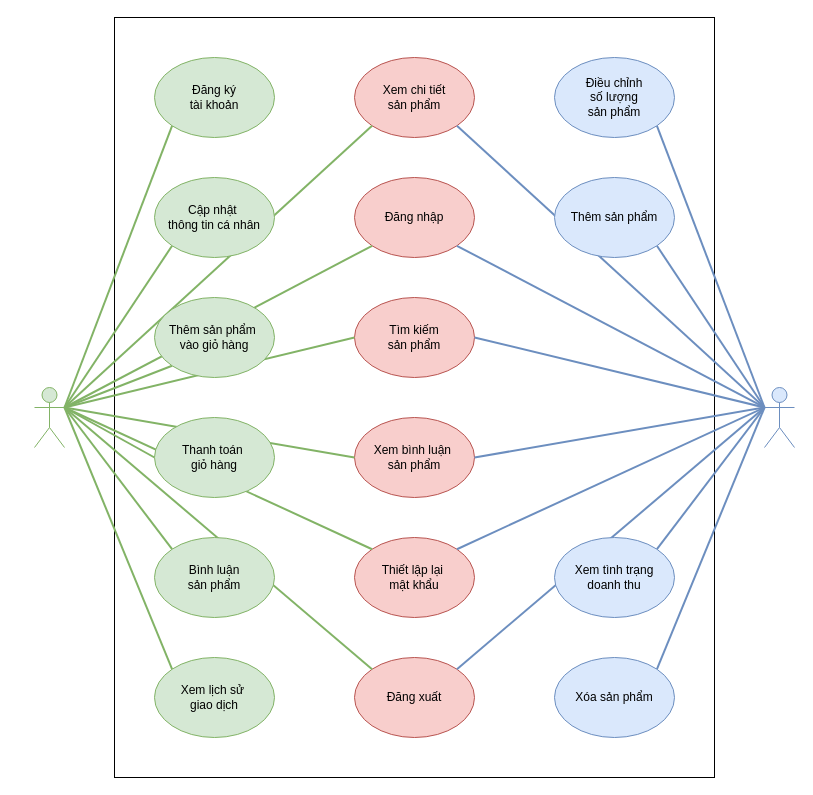
The diagram is 813 pixels wide and 795 high, and some of its shapes have lost their labels. Each missing label, with the centre of its shape:
"Admin" belongs at (779,417).
"Người dùng" belongs at (49,417).
